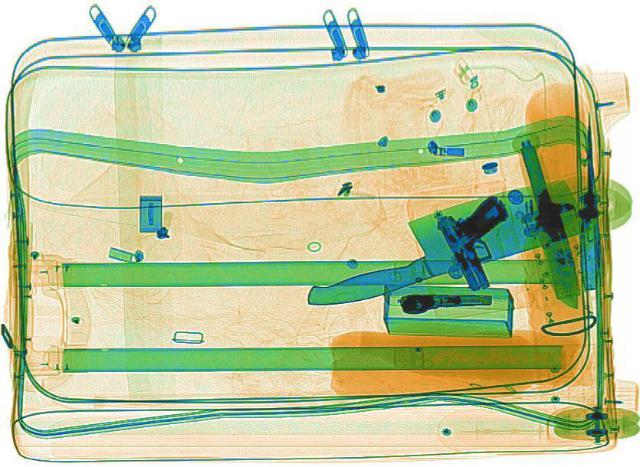Gun: (434, 193, 528, 288), (392, 279, 488, 319)
Knife: (277, 172, 595, 311), (514, 138, 582, 309)
